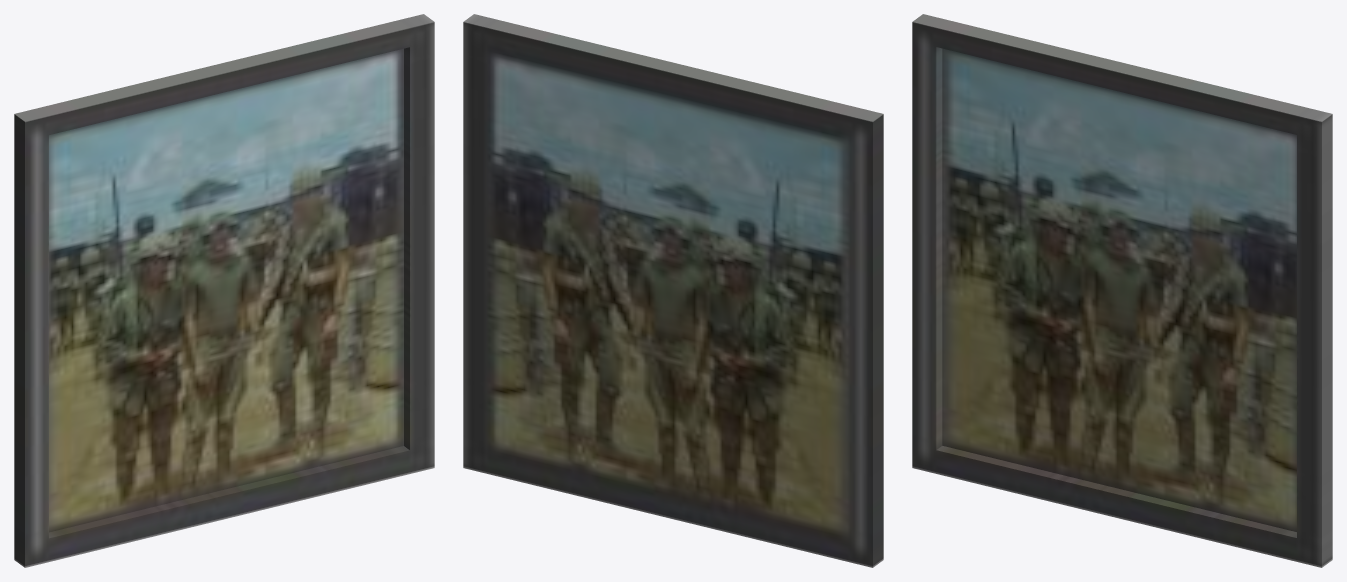
Rendered from vet_photo_2.FBX.
3 renders of one model, left to right at view 1: azimuth 30°, elevation 25°; view 2: azimuth 150°, elevation 25°; view 3: azimuth 330°, elevation 25°, orthographic.
Parts seen in each view (by area): view 1: Plane003; view 2: Plane003; view 3: Plane003.
Part boxes in pixels (left/top/right/bottom): Plane003: left=14, top=14, right=434, bottom=567; Plane003: left=463, top=14, right=883, bottom=567; Plane003: left=912, top=14, right=1332, bottom=567.
Bounding box in the file's own units: 41.33 × 43.03 × 1.89.
